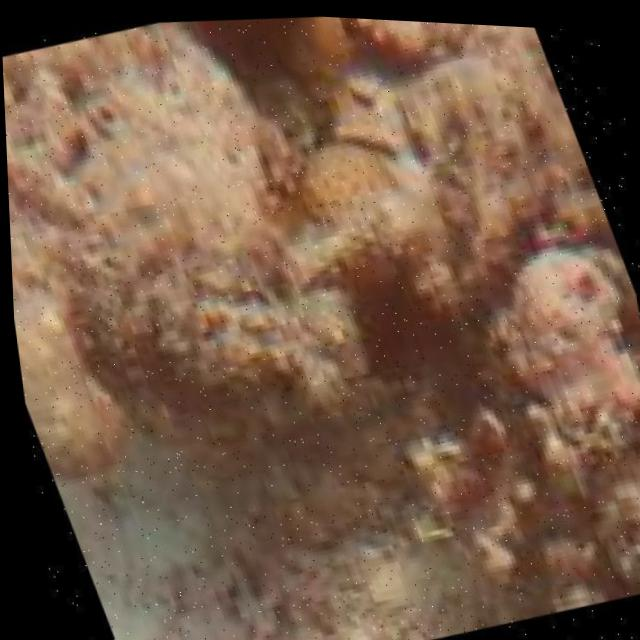Healthy Coral: (259, 104, 442, 259)
